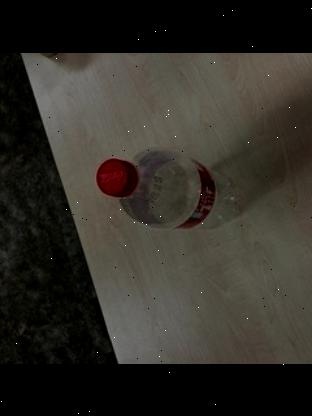Plastic Bottle: (94, 145, 256, 230)
